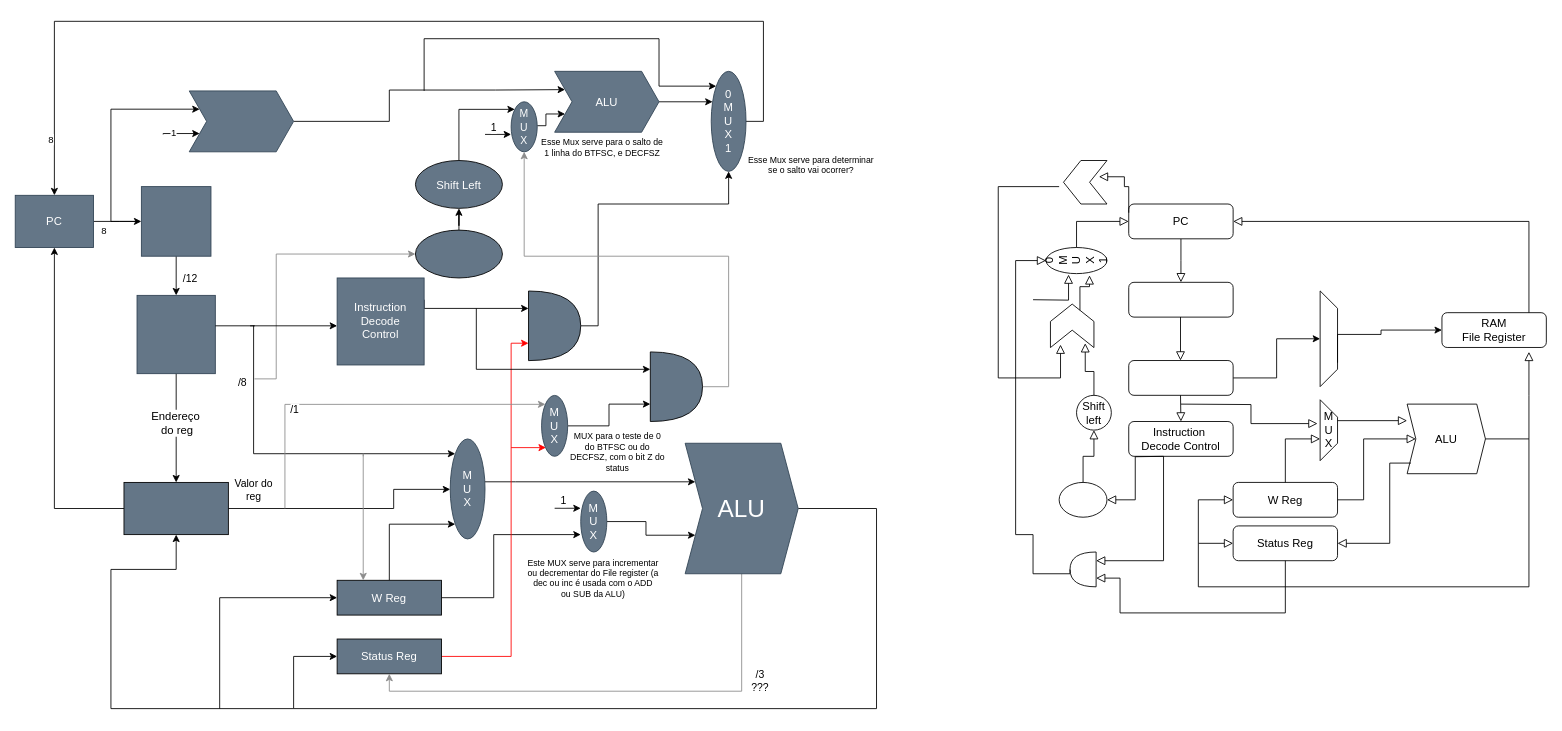
The diagram is 1562 pixels wide and 731 high, and some of its shapes have lost their labels. Each missing label, with the box of its shape:
A d d r M U X: (1319, 290, 1338, 387)
ADD: (188, 90, 294, 152)
Flash Program Memory: (1128, 281, 1233, 317)
Flash Program Memory 512 x 12: (141, 186, 211, 256)
Instruction Reg: (1128, 360, 1233, 395)
Instruction Reg 12 bits: (136, 294, 215, 374)
RAM File Register 24x8: (123, 482, 228, 535)
Sign Extend: (1058, 482, 1107, 517)
Sign Extended: (415, 229, 502, 278)
